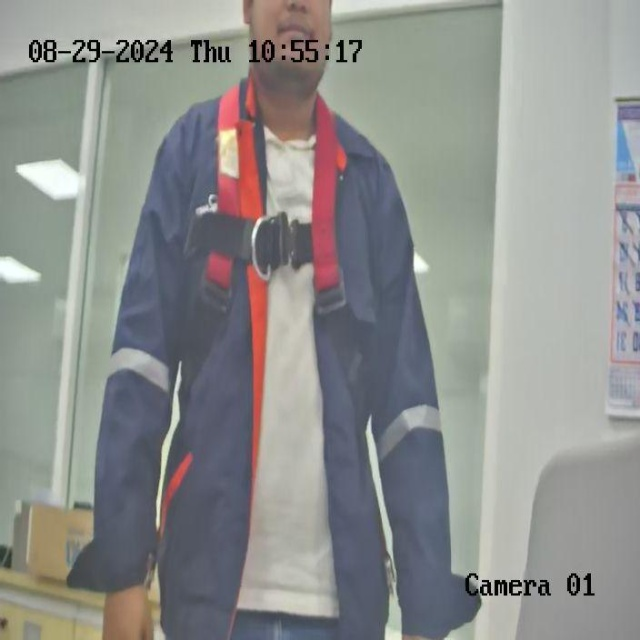Arnes_seguridad: (168, 66, 380, 442)
